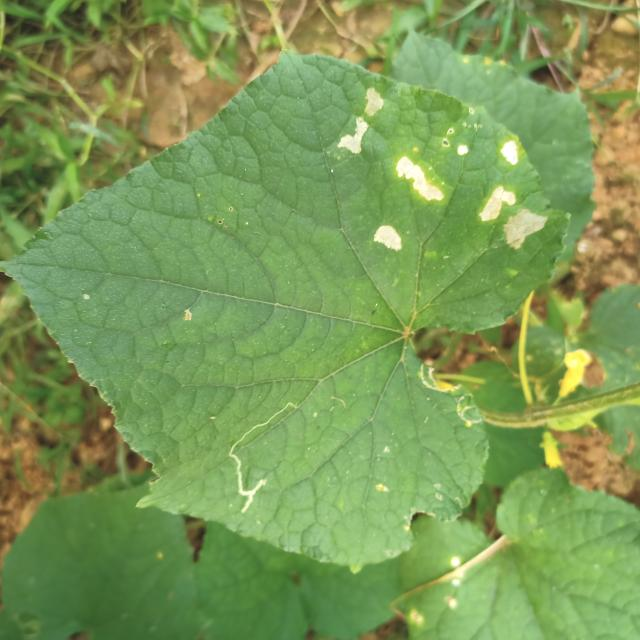disease_cucumber: (473, 132, 549, 254), (392, 127, 474, 206), (333, 80, 389, 163), (368, 218, 408, 258)
